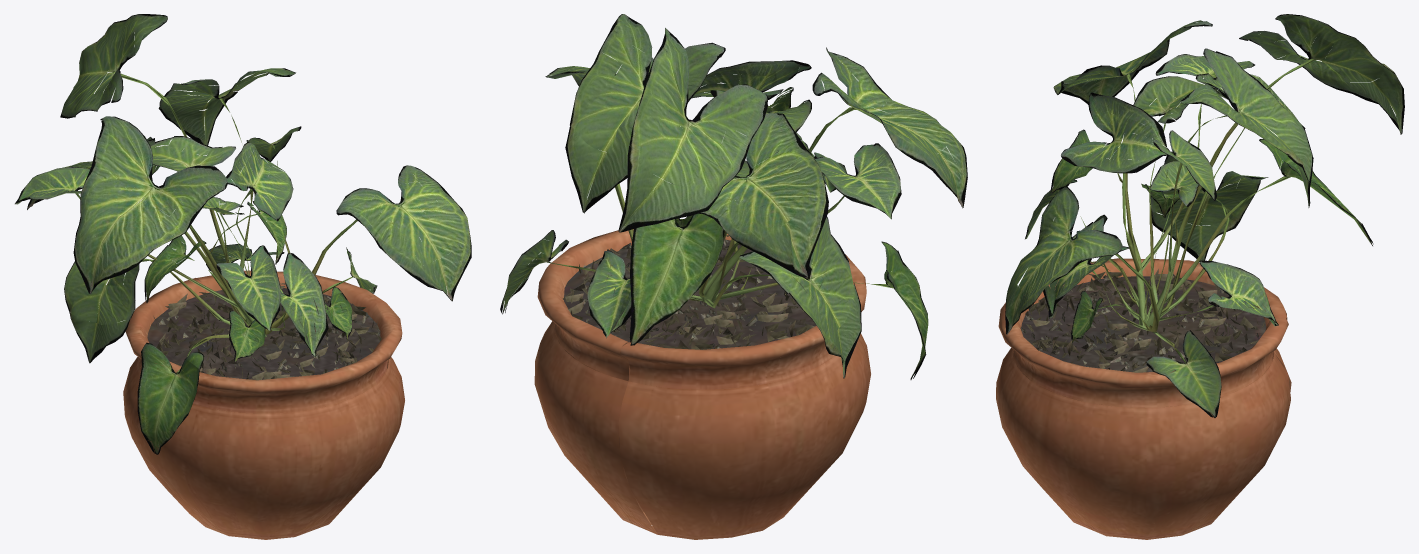
The model's file is potted_plant_02.glb.
3 renders of one model, left to right at view 1: azimuth 30°, elevation 25°; view 2: azimuth 150°, elevation 25°; view 3: azimuth 270°, elevation 25°, orthographic. The views are drawn at different scales.
Visible parts, largest first — view 1: potted_plant_02_leaves, potted_plant_02_pot, potted_plant_02_dirt; view 2: potted_plant_02_leaves, potted_plant_02_pot, potted_plant_02_dirt; view 3: potted_plant_02_leaves, potted_plant_02_pot, potted_plant_02_dirt.
Part boxes in pixels (bbox=[...]): potted_plant_02_leaves: bbox=[15, 14, 471, 454]; potted_plant_02_pot: bbox=[123, 270, 404, 539]; potted_plant_02_dirt: bbox=[147, 283, 381, 380]; potted_plant_02_leaves: bbox=[500, 14, 967, 379]; potted_plant_02_pot: bbox=[534, 229, 870, 539]; potted_plant_02_dirt: bbox=[563, 235, 822, 349]; potted_plant_02_leaves: bbox=[1005, 14, 1404, 417]; potted_plant_02_pot: bbox=[996, 258, 1291, 539]; potted_plant_02_dirt: bbox=[1020, 269, 1269, 372].
Bounding box in the file's own units: 0.7008 × 0.8423 × 0.6566.
Materials: 2 (2 with a texture image).
